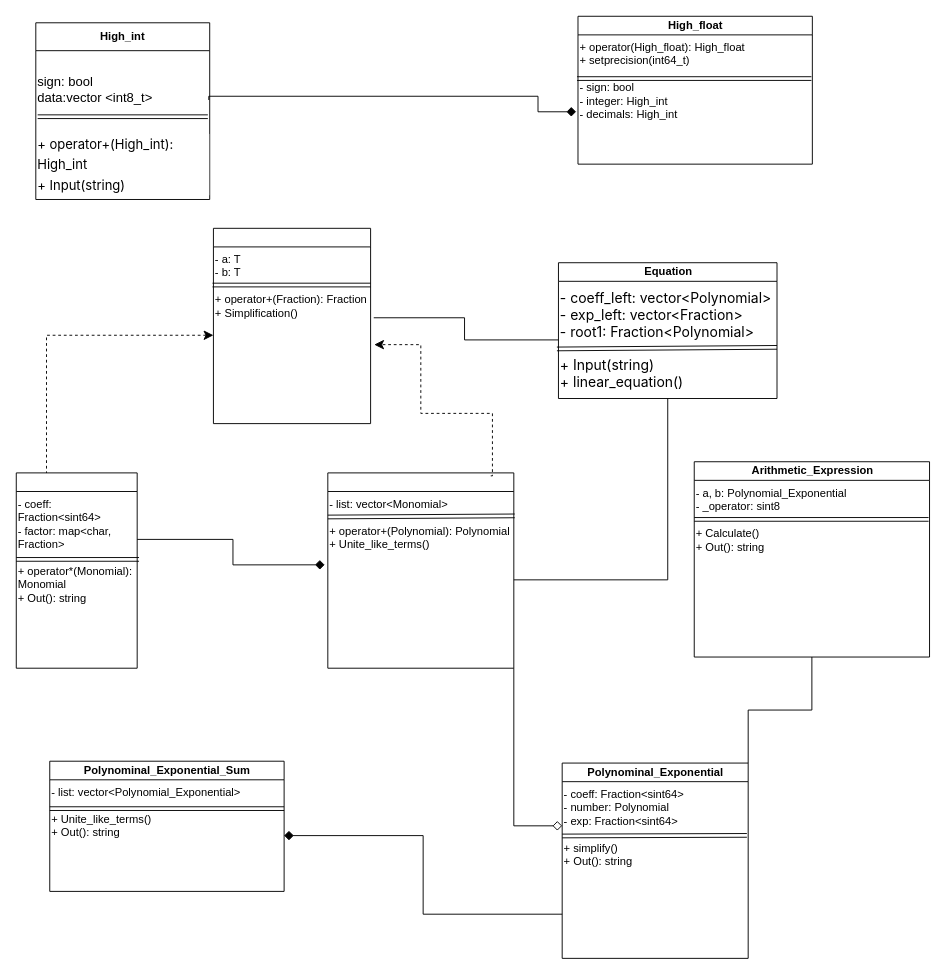
The diagram is 946 pixels wide and 975 high, and some of its shapes have lost their labels. The shapes that lost their labels are listed below. From the top down, each one's box as (x1, y1, x2, y2) in pixels, then its label:
(213, 227, 371, 424): Fraction<T>
(15, 472, 137, 668): Monominal
(327, 472, 514, 668): Polynominal
